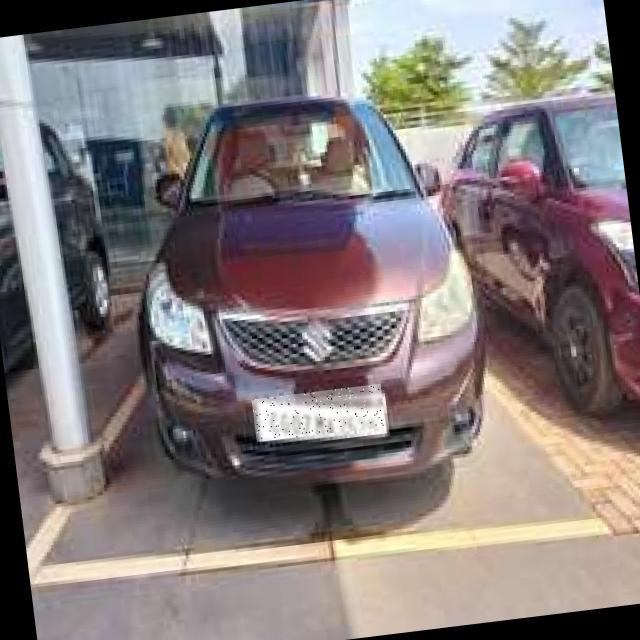Plate: (253, 384, 387, 443)
